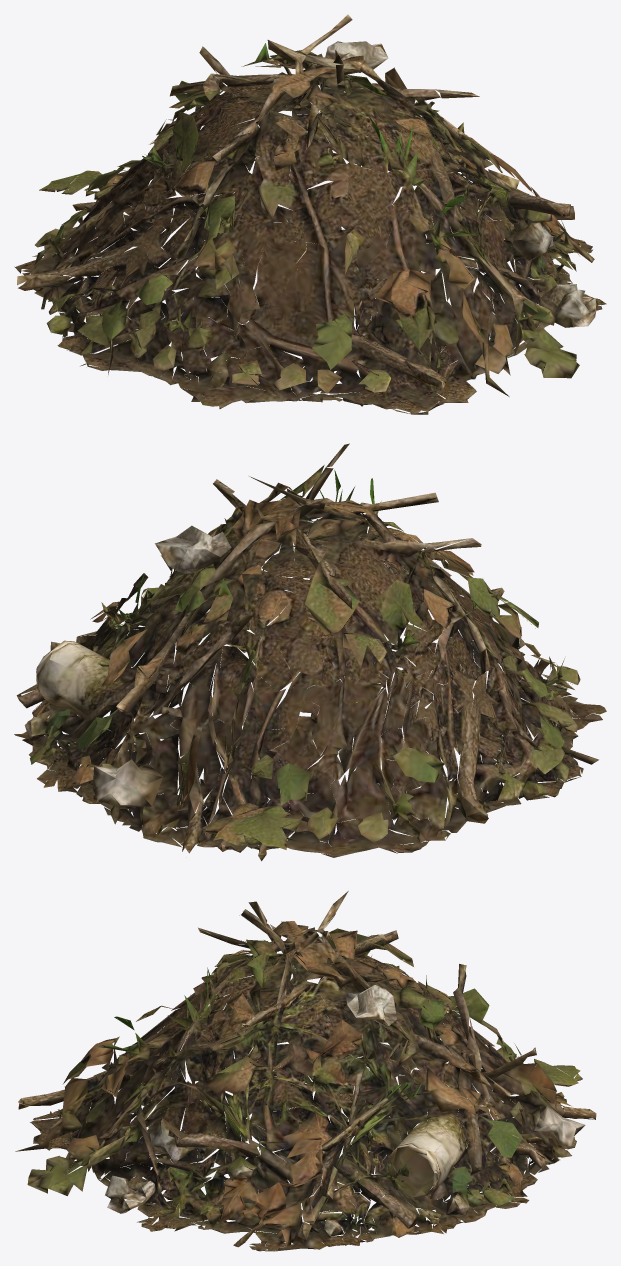
File: leaves_pile.glb
The picture shows the model from 3 angles, top to bottom: view 1: azimuth 30°, elevation 25°; view 2: azimuth 150°, elevation 25°; view 3: azimuth 270°, elevation 25°; orthographic projection. The views are drawn at different scales.
Parts seen in each view (by area): view 1: leaves_pile; view 2: leaves_pile; view 3: leaves_pile.
Boxes of the visible parts, x1,y1,x2,y2 form: leaves_pile: (14, 14, 606, 414); leaves_pile: (14, 443, 606, 861); leaves_pile: (15, 891, 596, 1251).
Size of the model in its own units: 0.8772 by 0.4365 by 0.9787.
1 material, 1 textured.
